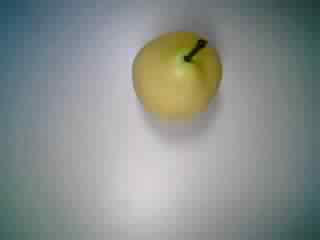pear: (122, 23, 237, 124)
